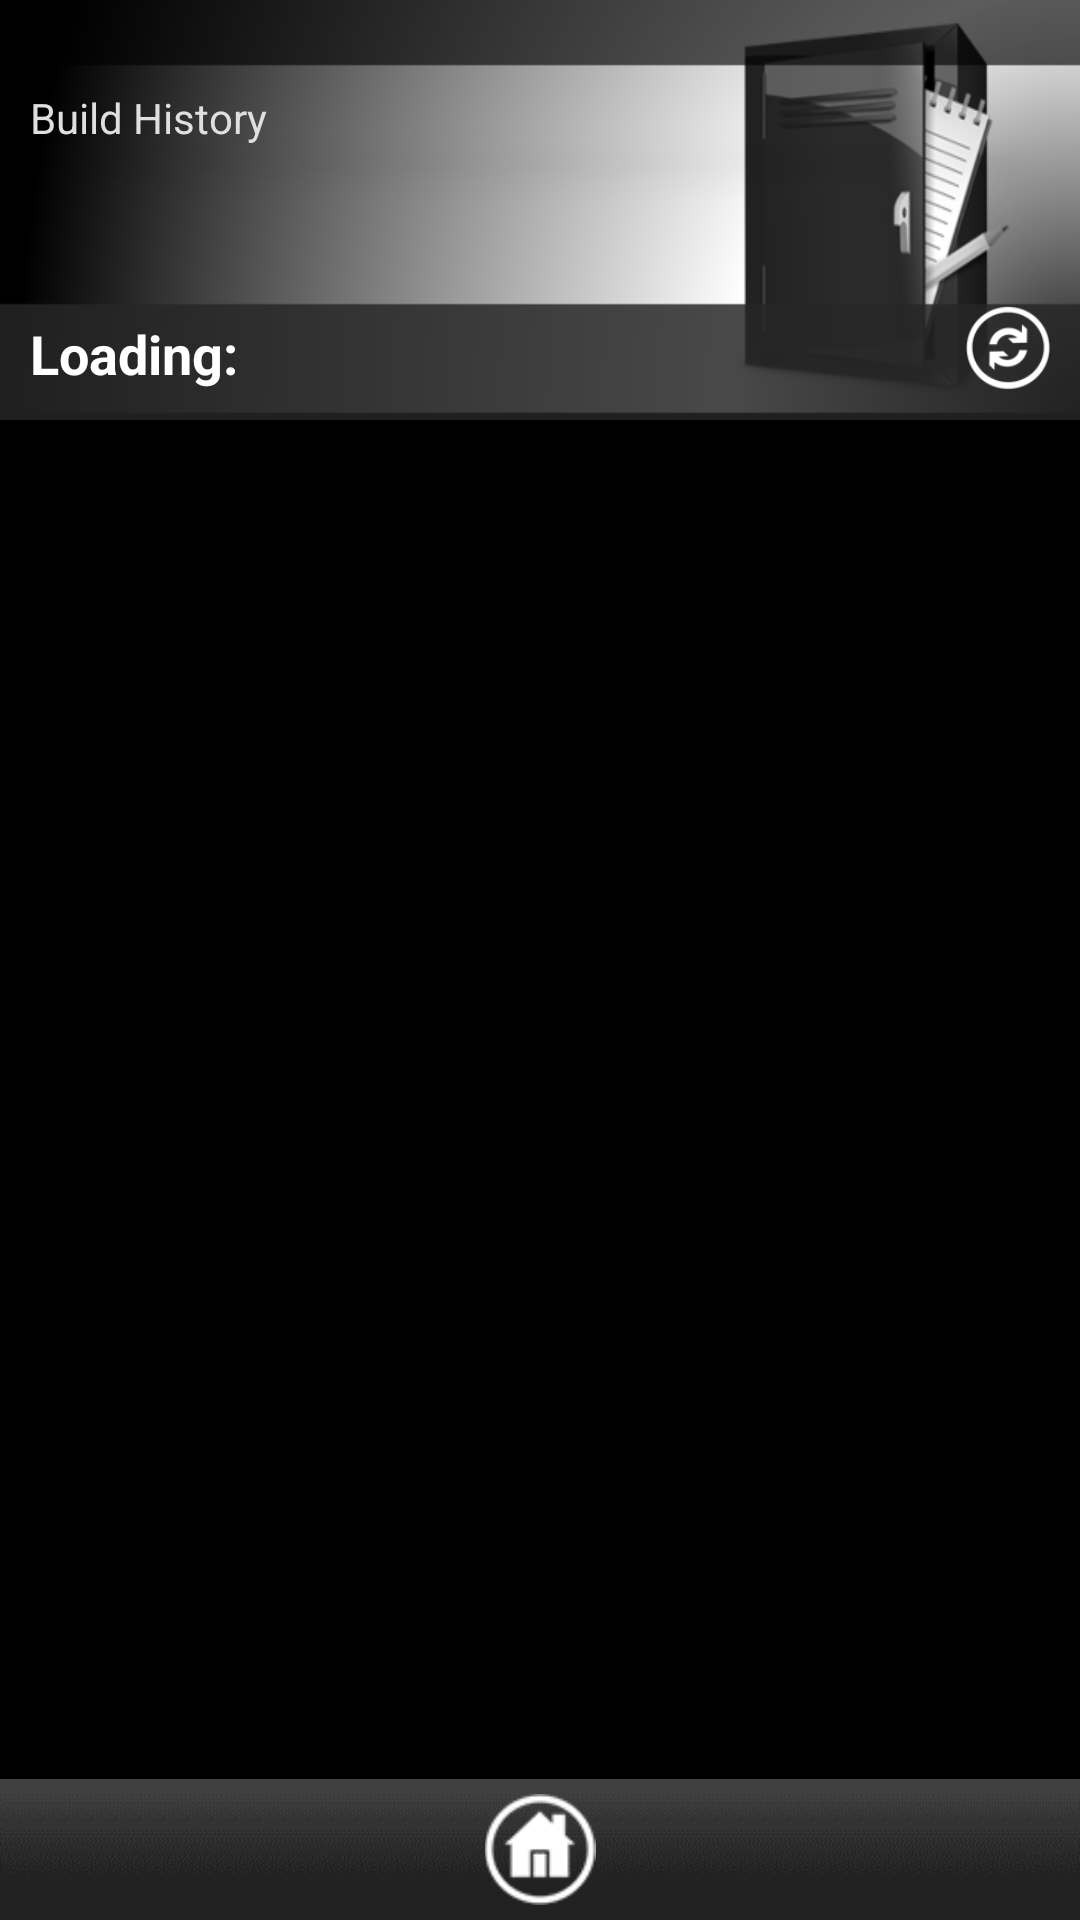

Screen size 1080*1920. Icon name, then its center in pixels as (x,y):
homeicon: (540,1849)
refresh: (1008,348)
